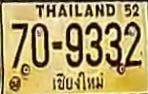0: (30, 22, 48, 67)
2: (124, 21, 140, 66)
3: (85, 21, 102, 66), (104, 21, 121, 66)
7: (11, 22, 27, 67)
9: (65, 22, 82, 66)
CMI: (48, 71, 107, 93)
